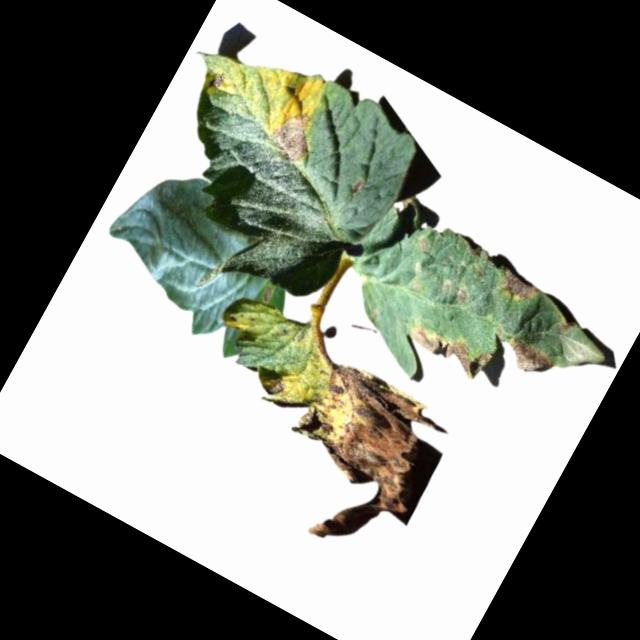Early_blight: (255, 354, 456, 570), (395, 309, 494, 385), (266, 100, 327, 167), (498, 332, 557, 384), (492, 266, 541, 309), (256, 365, 290, 400), (204, 65, 231, 93), (554, 317, 576, 339), (453, 285, 475, 306), (260, 283, 275, 300)
